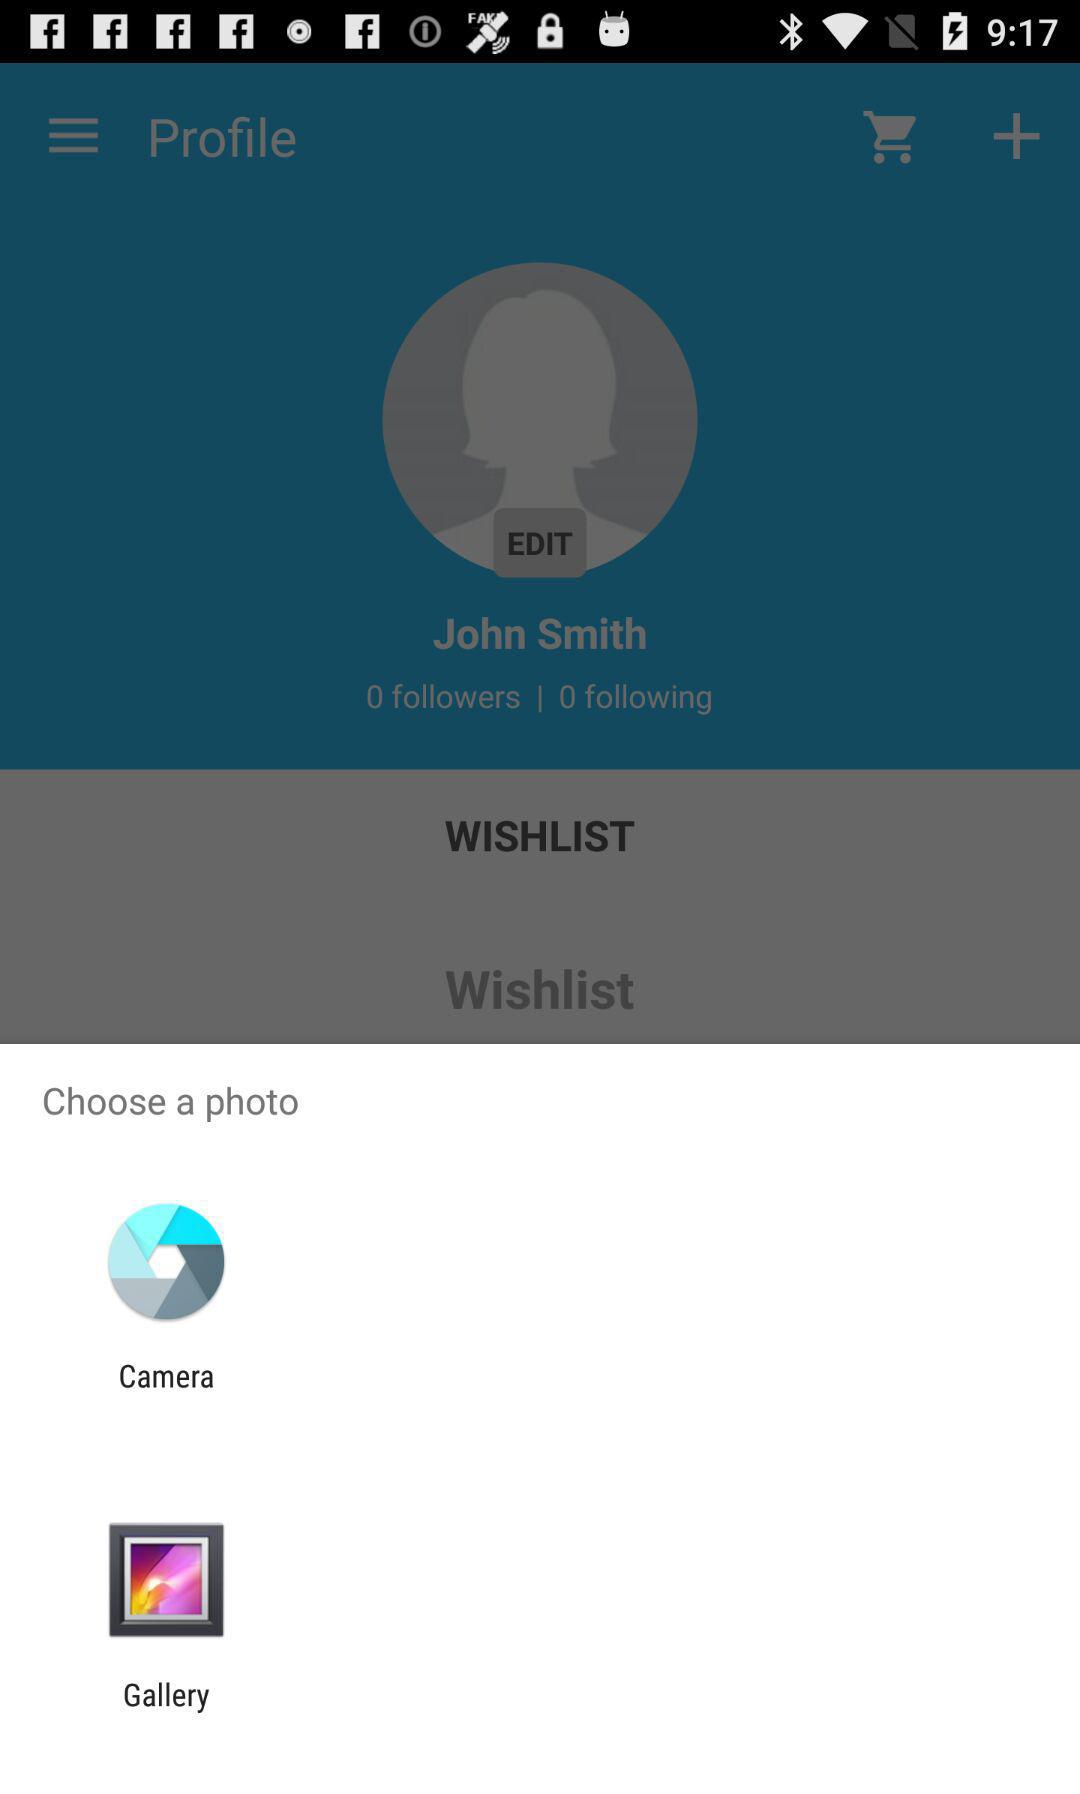Icon: (380, 261, 700, 580), (862, 111, 917, 167), (992, 111, 1042, 161), (47, 117, 100, 156)
Image: (108, 1203, 227, 1321), (108, 1521, 225, 1638)
Modal: (1, 1044, 1080, 1794)
Text: (44, 1085, 300, 1124), (445, 969, 635, 1011), (432, 616, 647, 652), (150, 117, 296, 160), (446, 820, 635, 853), (560, 683, 714, 718), (366, 680, 521, 712), (124, 1681, 211, 1715), (120, 1363, 215, 1390)
UpperTaskBar: (1, 1, 1080, 64)
